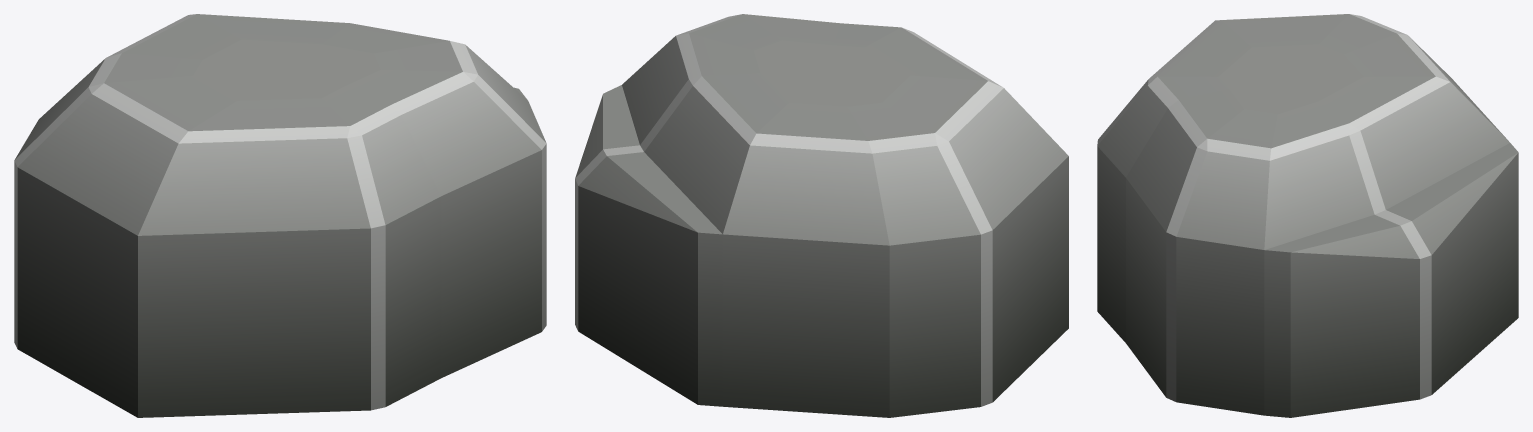
The model's file is Rock-1-9.fbx.
3 views of the same model, side by side, from view 1: azimuth 30°, elevation 25°; view 2: azimuth 150°, elevation 25°; view 3: azimuth 270°, elevation 25° (orthographic). The views are drawn at different scales.
Visible parts, largest first — view 1: Rock-1-9; view 2: Rock-1-9; view 3: Rock-1-9.
Boxes of the visible parts, bbox=[...] form: Rock-1-9: bbox=[14, 14, 546, 417]; Rock-1-9: bbox=[575, 14, 1068, 417]; Rock-1-9: bbox=[1097, 14, 1518, 417].
Size of the model in its own units: 341 by 186 by 300.
